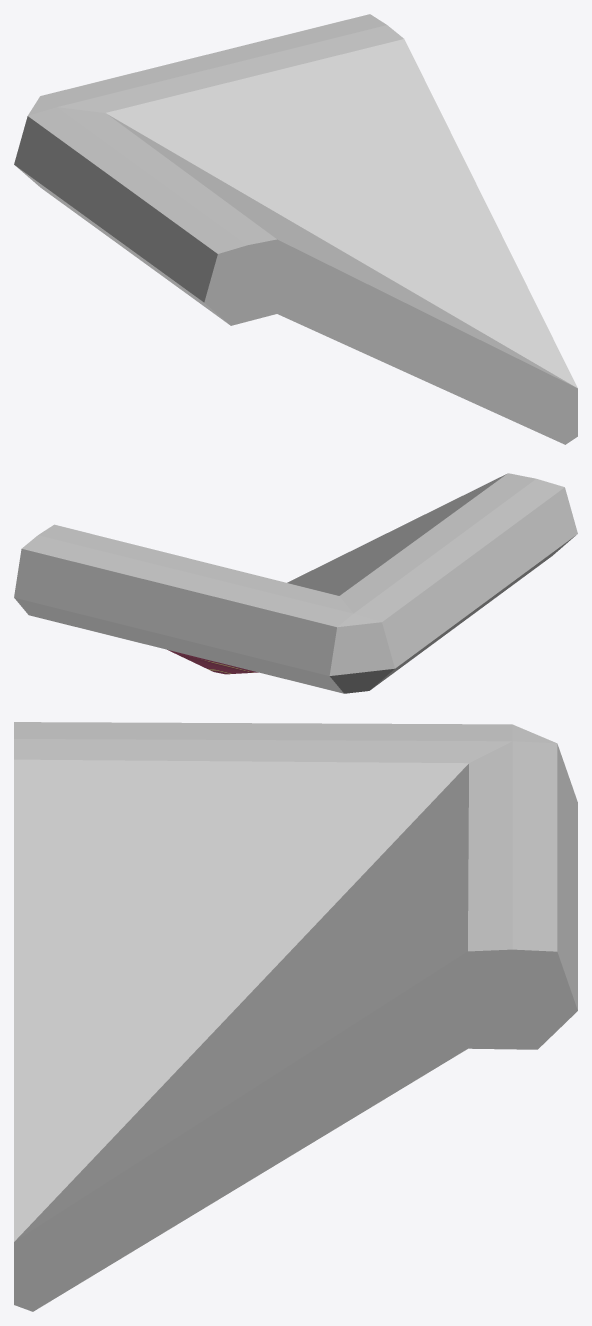
File: SM_Bld_Roof_Trim_Corner_In_02.fbx
3 renders of one model, top to bottom at view 1: azimuth 30°, elevation 25°; view 2: azimuth 150°, elevation 25°; view 3: azimuth 270°, elevation 25°, orthographic. The views are drawn at different scales.
Parts seen in each view (by area): view 1: SM_Bld_Roof_Trim_Corner_In_02; view 2: SM_Bld_Roof_Trim_Corner_In_02; view 3: SM_Bld_Roof_Trim_Corner_In_02.
Part boxes in pixels (x1,y1,x2,y2): SM_Bld_Roof_Trim_Corner_In_02: (14,14,577,444); SM_Bld_Roof_Trim_Corner_In_02: (14,473,577,693); SM_Bld_Roof_Trim_Corner_In_02: (14,722,577,1311).
Size of the model in its own units: 141 by 100 by 141.
